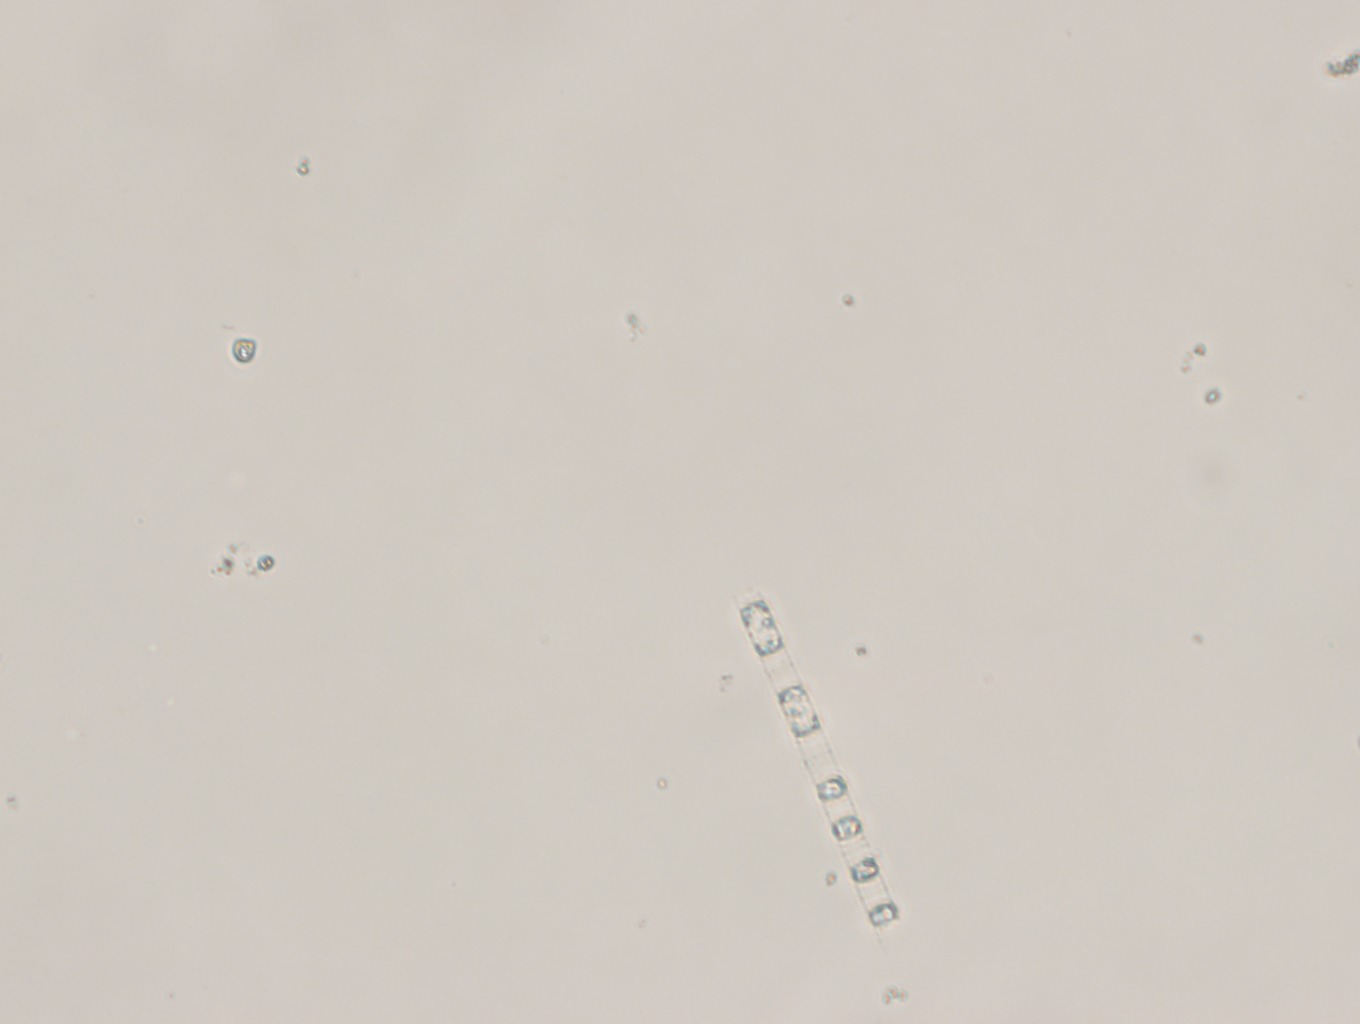skeletonema: (729, 582, 917, 951)
